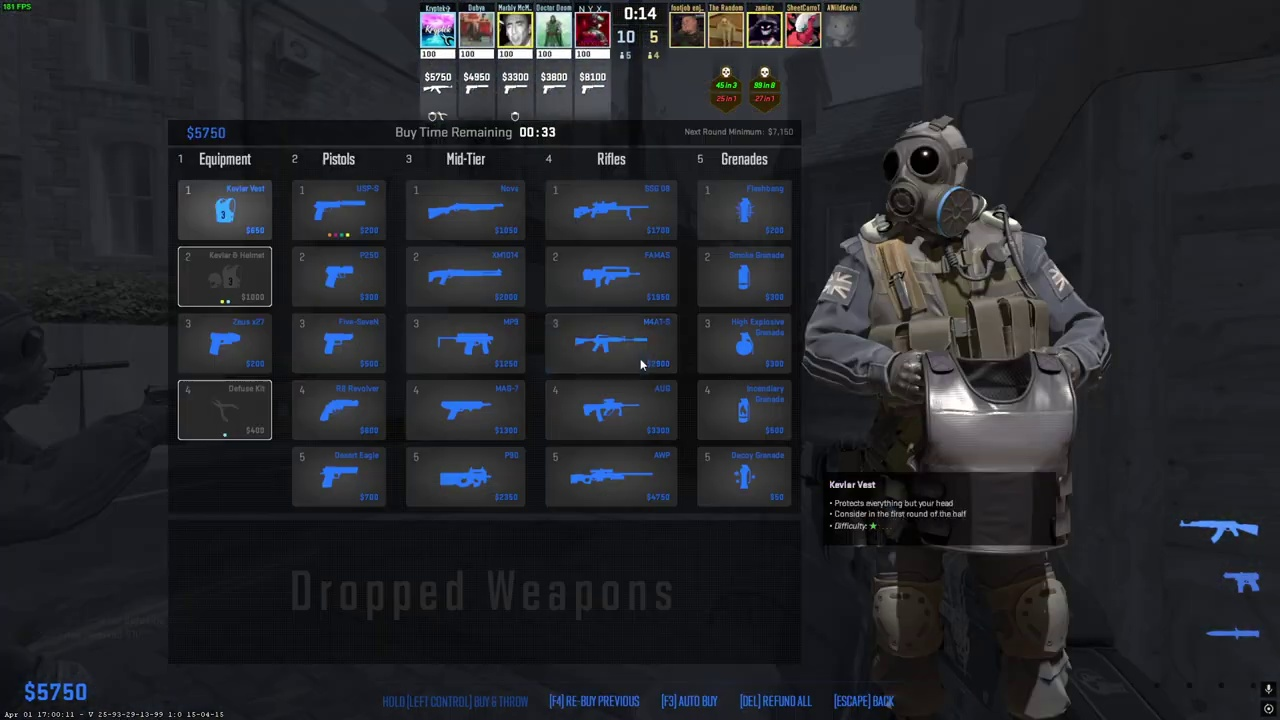CT: (847, 121, 1086, 720)
